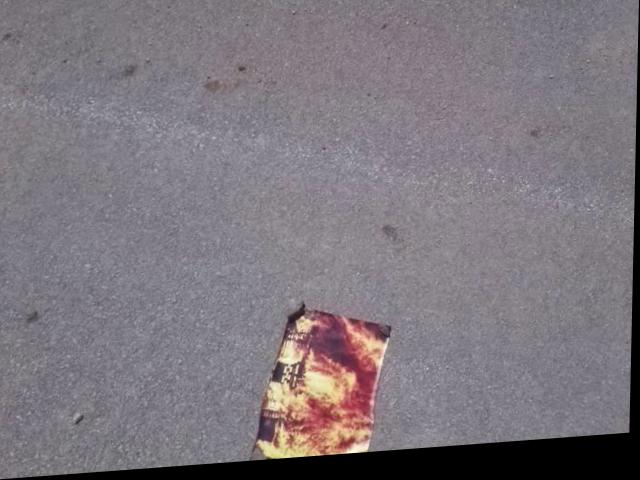fire-poster: (251, 301, 396, 464)
